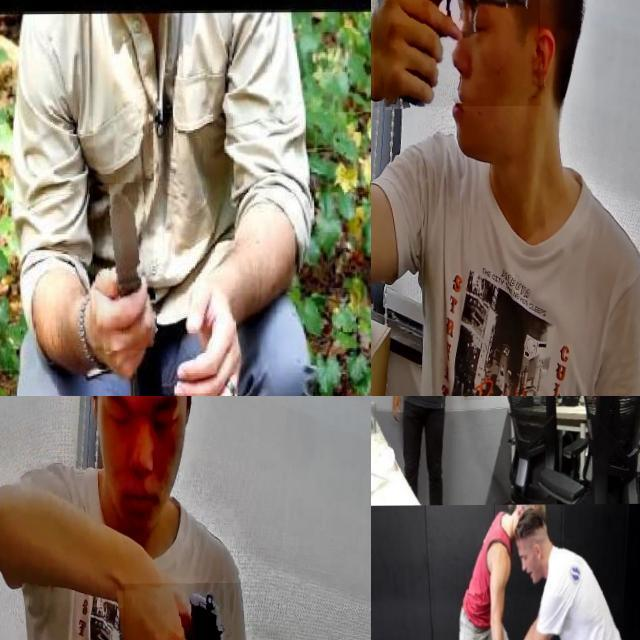-: (92, 183, 154, 351), (463, 396, 483, 406)
gun-knife-thesis - v11 Yolov5 augmented: (371, 0, 540, 107), (121, 583, 245, 640)
